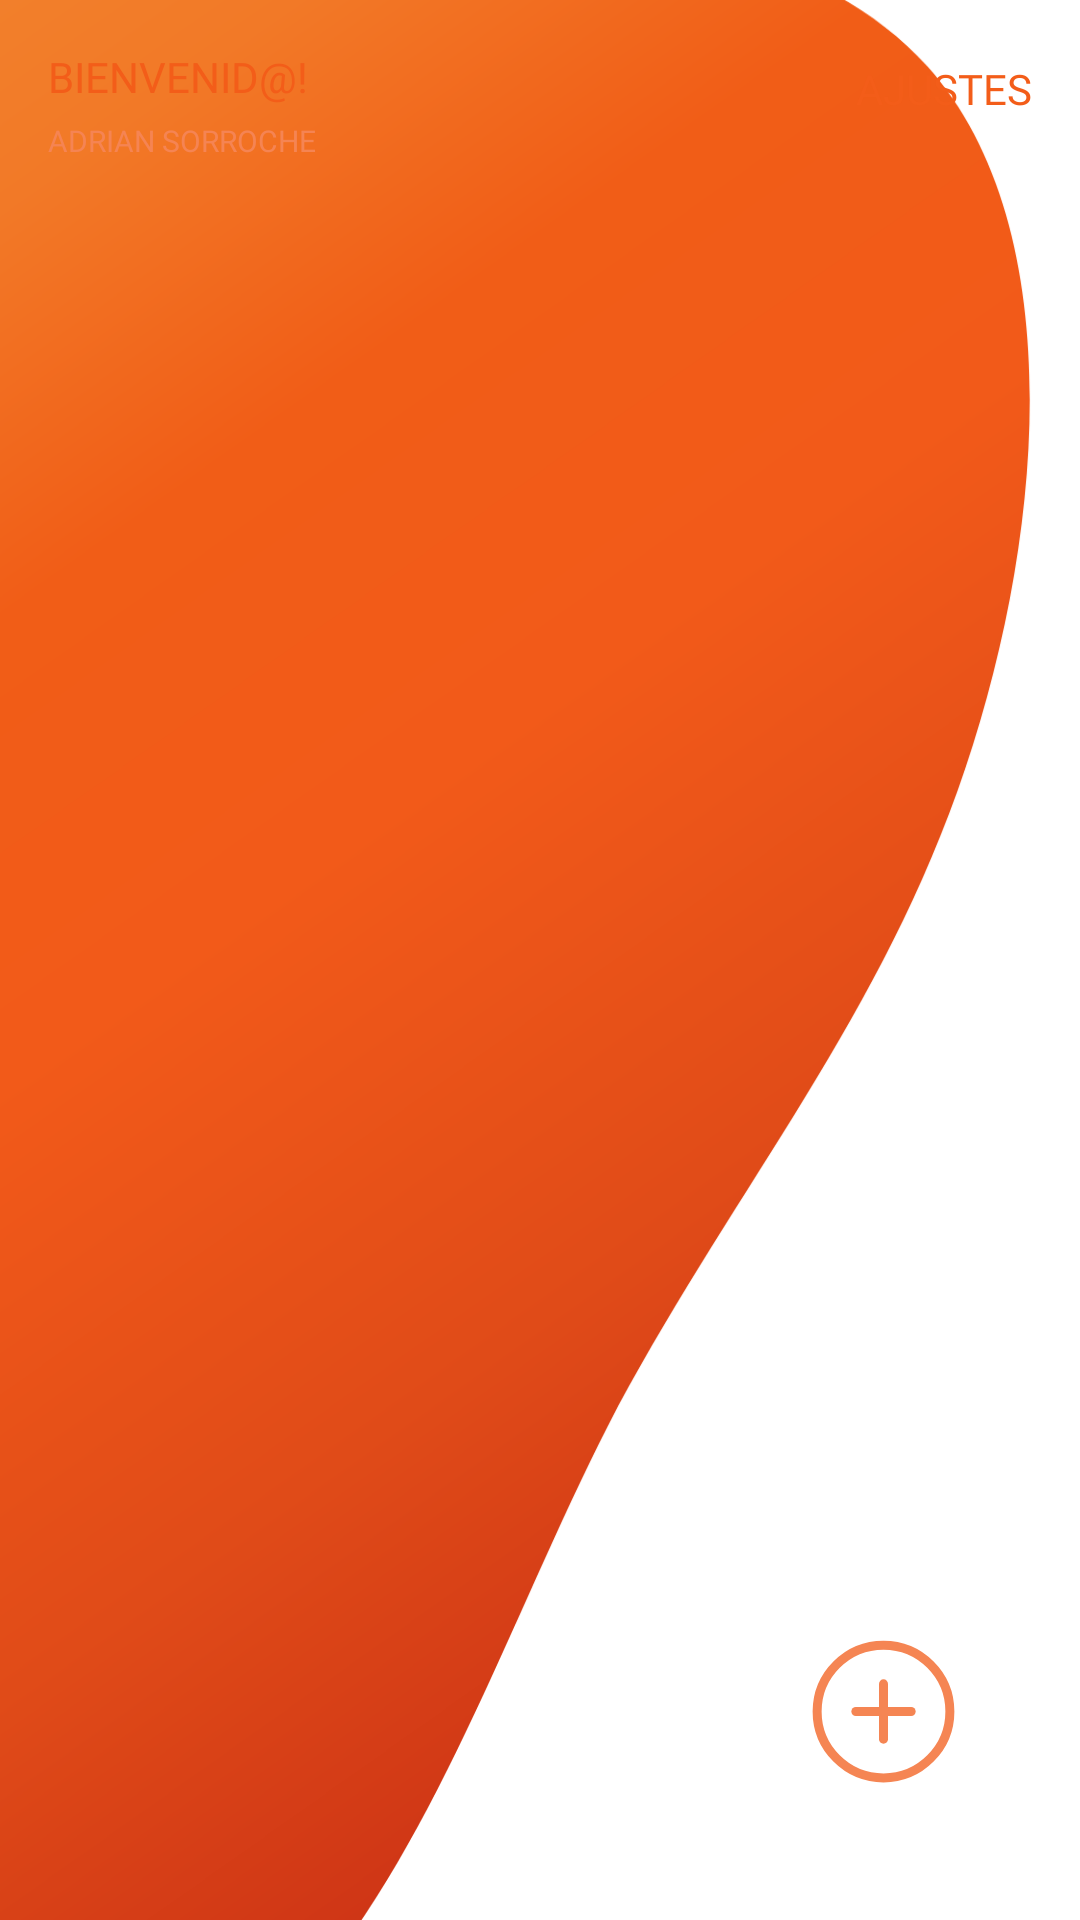

Icon bounding boxes for this 1080x1920 phone screenshot, format (x1, y1, x2, y2):
pluscircle: (812, 1640, 955, 1783)
